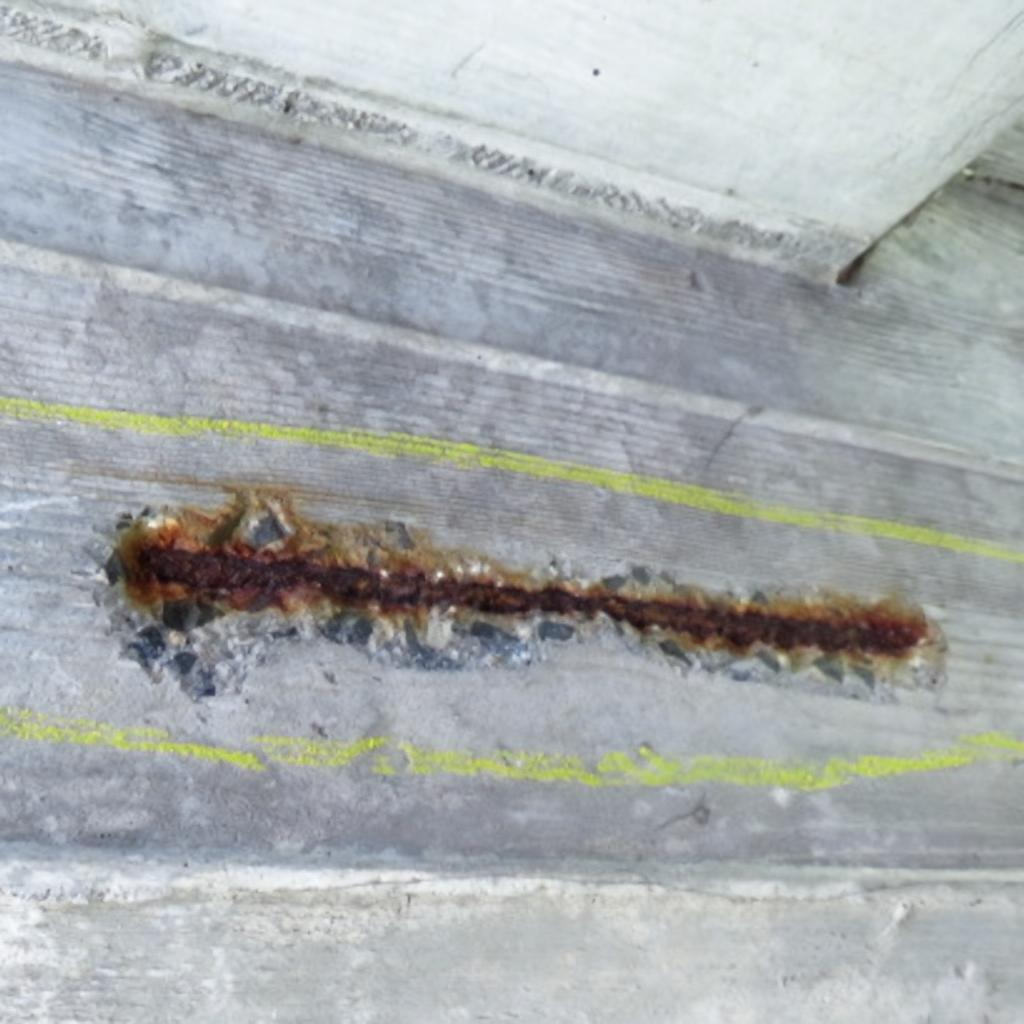exposed_rebar: (126, 546, 924, 653)
spalling: (104, 488, 942, 699)
